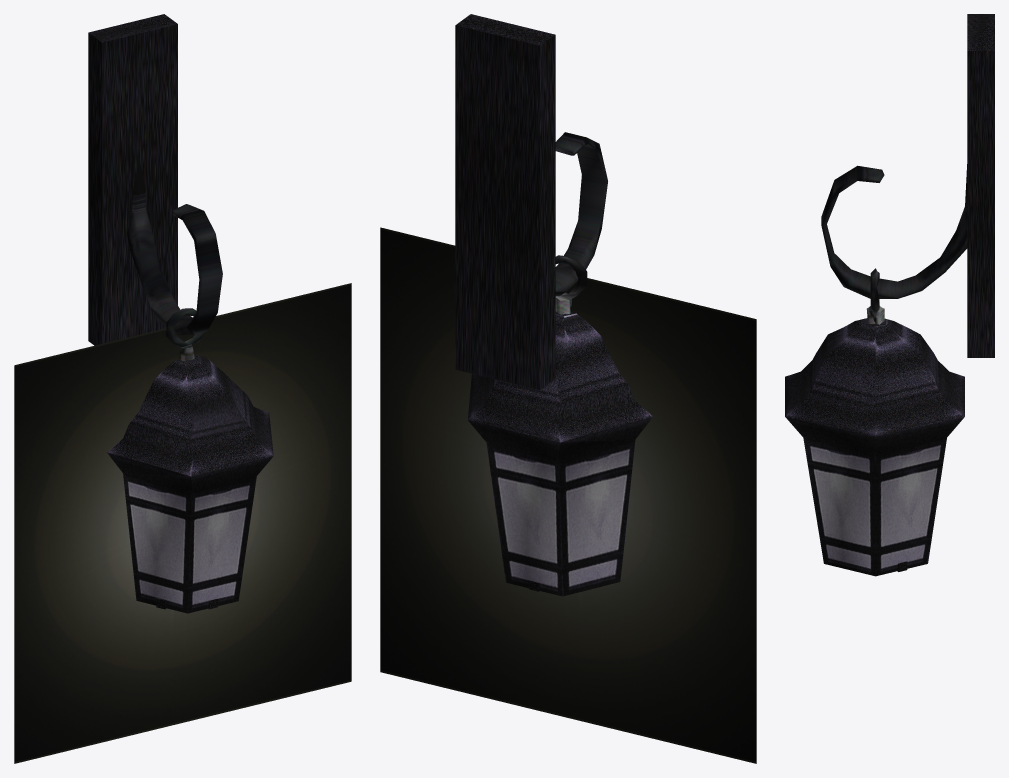
Rendered from sconce_1.obj.
3 renders of one model, left to right at view 1: azimuth 30°, elevation 25°; view 2: azimuth 150°, elevation 25°; view 3: azimuth 270°, elevation 25°, orthographic. The views are drawn at different scales.
Visible parts, largest first — view 1: lensflare_1, sconce_1, sconce_1a; view 2: lensflare_1, sconce_1, sconce_1a; view 3: sconce_1, sconce_1a.
Boxes of the visible parts, <box> form: lensflare_1: <box>14,283,351,763</box>; sconce_1: <box>88,14,273,491</box>; sconce_1a: <box>123,473,256,613</box>; lensflare_1: <box>380,227,756,763</box>; sconce_1: <box>455,14,652,459</box>; sconce_1a: <box>486,440,635,596</box>; sconce_1: <box>785,14,994,453</box>; sconce_1a: <box>803,437,946,576</box>.
Size of the model in its own units: 19.65 by 36.46 by 10.64.
3 materials, 3 textured.
